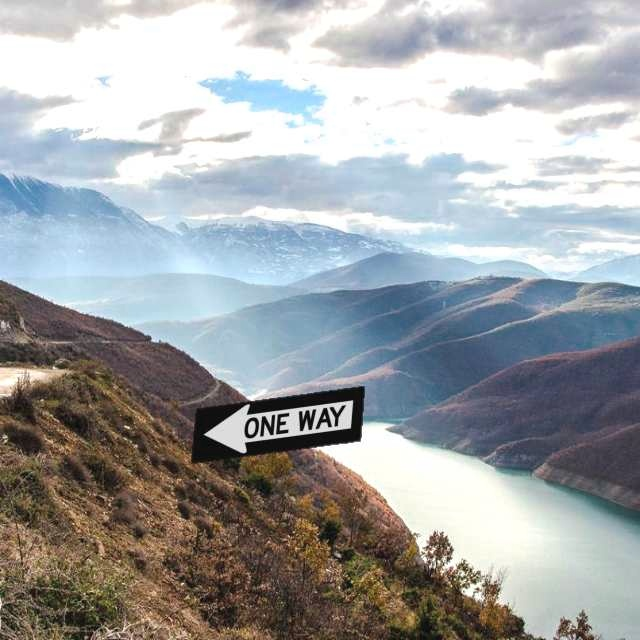ONE_WAY_ left: (190, 385, 365, 464)
